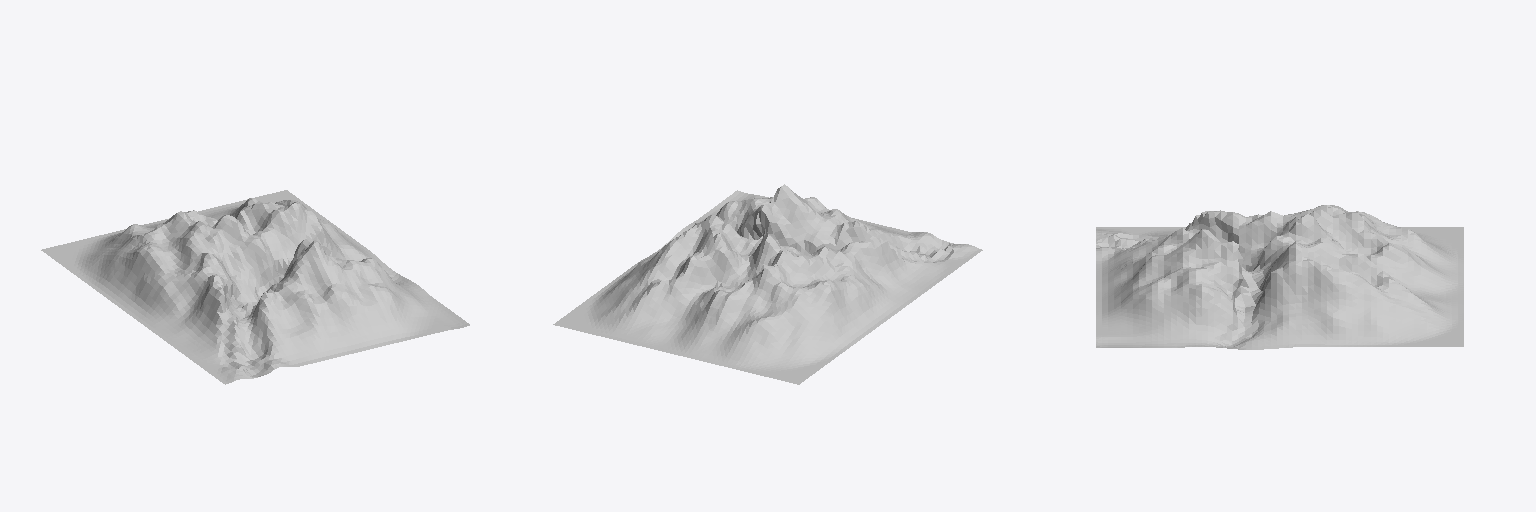
The model's file is terrain.obj.
The picture shows the model from 3 angles: view 1: azimuth 30°, elevation 25°; view 2: azimuth 150°, elevation 25°; view 3: azimuth 270°, elevation 25°; orthographic projection.
Visible parts, largest first — view 1: Landscape; view 2: Landscape; view 3: Landscape.
Boxes of the visible parts, x1,y1,x2,y2 form: Landscape: [41, 190, 469, 384]; Landscape: [553, 184, 982, 384]; Landscape: [1096, 205, 1463, 349].
Size of the model in its own units: 25.97 by 7.56 by 33.68.